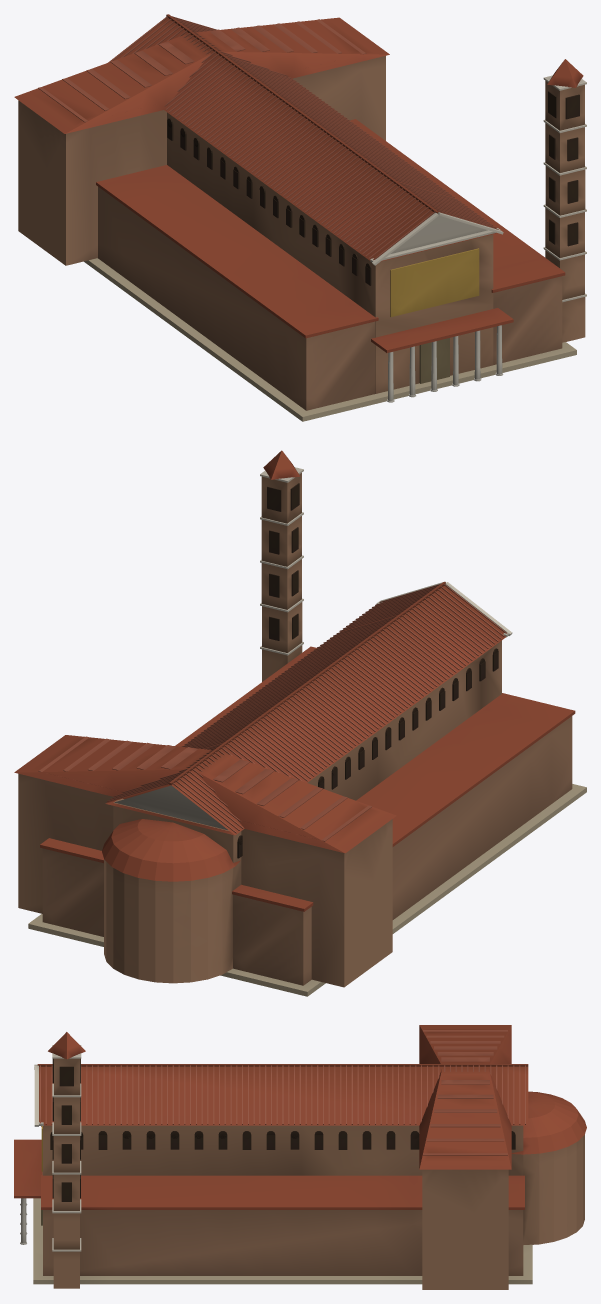
Rendered from lateran-medieval.glb.
3 views of the same model, one above another, from view 1: azimuth 30°, elevation 25°; view 2: azimuth 150°, elevation 25°; view 3: azimuth 270°, elevation 25° (orthographic). The views are drawn at different scales.
Visible parts, largest first — view 1: p2_campanile, p1_porch, p0_base; view 2: p2_campanile, p1_porch, p0_base; view 3: p2_campanile, p1_porch, p0_base.
Boxes of the visible parts, x1=… form: p2_campanile: x1=14, y1=14, x2=586, y2=352; p1_porch: x1=18, y1=56, x2=562, y2=410; p0_base: x1=84, y1=258, x2=576, y2=421; p2_campanile: x1=14, y1=450, x2=575, y2=911; p1_porch: x1=18, y1=640, x2=572, y2=987; p0_base: x1=28, y1=784, x2=586, y2=996; p2_campanile: x1=14, y1=1025, x2=586, y2=1288; p1_porch: x1=20, y1=1125, x2=584, y2=1289; p0_base: x1=33, y1=1198, x2=532, y2=1284.
Size of the model in its own units: 71.2 by 58.7 by 119.
